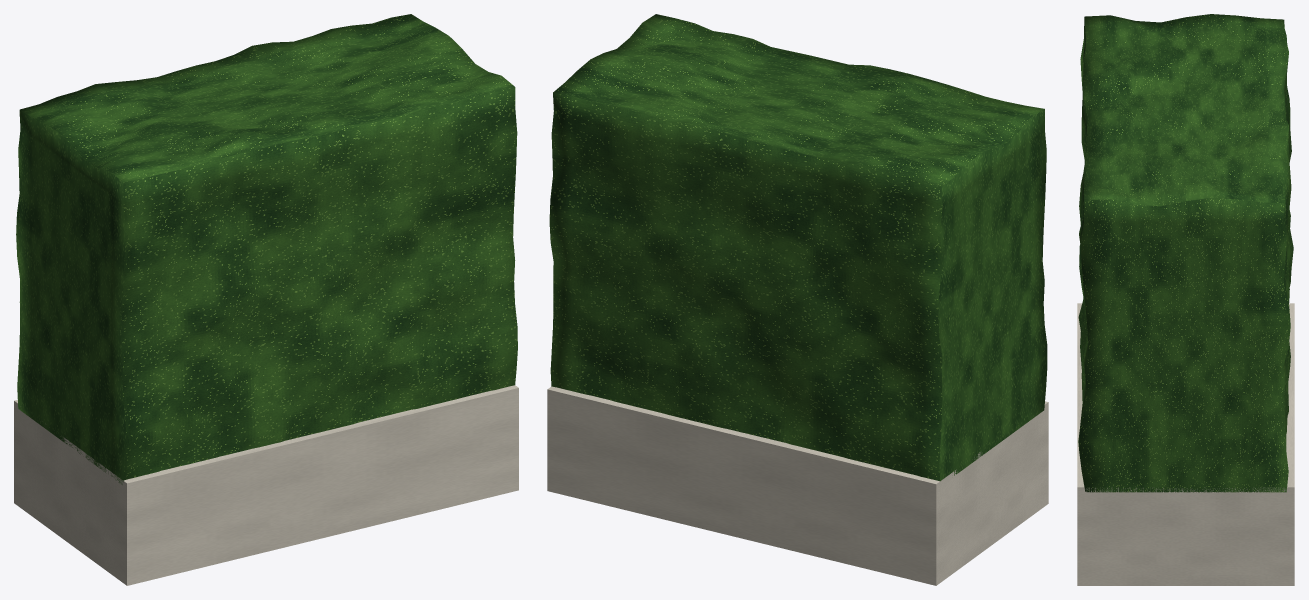
The model's file is PenthouseHedgeClean.glb.
3 views of the same model, side by side, from view 1: azimuth 30°, elevation 25°; view 2: azimuth 150°, elevation 25°; view 3: azimuth 270°, elevation 25° (orthographic). The views are drawn at different scales.
Parts seen in each view (by area): view 1: PenthouseHedge; view 2: PenthouseHedge; view 3: PenthouseHedge.
Part boxes in pixels (x1,y1,x2,y2): PenthouseHedge: (14, 14, 518, 585); PenthouseHedge: (547, 14, 1048, 585); PenthouseHedge: (1077, 14, 1294, 585).
Size of the model in its own units: 8 by 7.94 by 4.
1 material, 1 textured.
